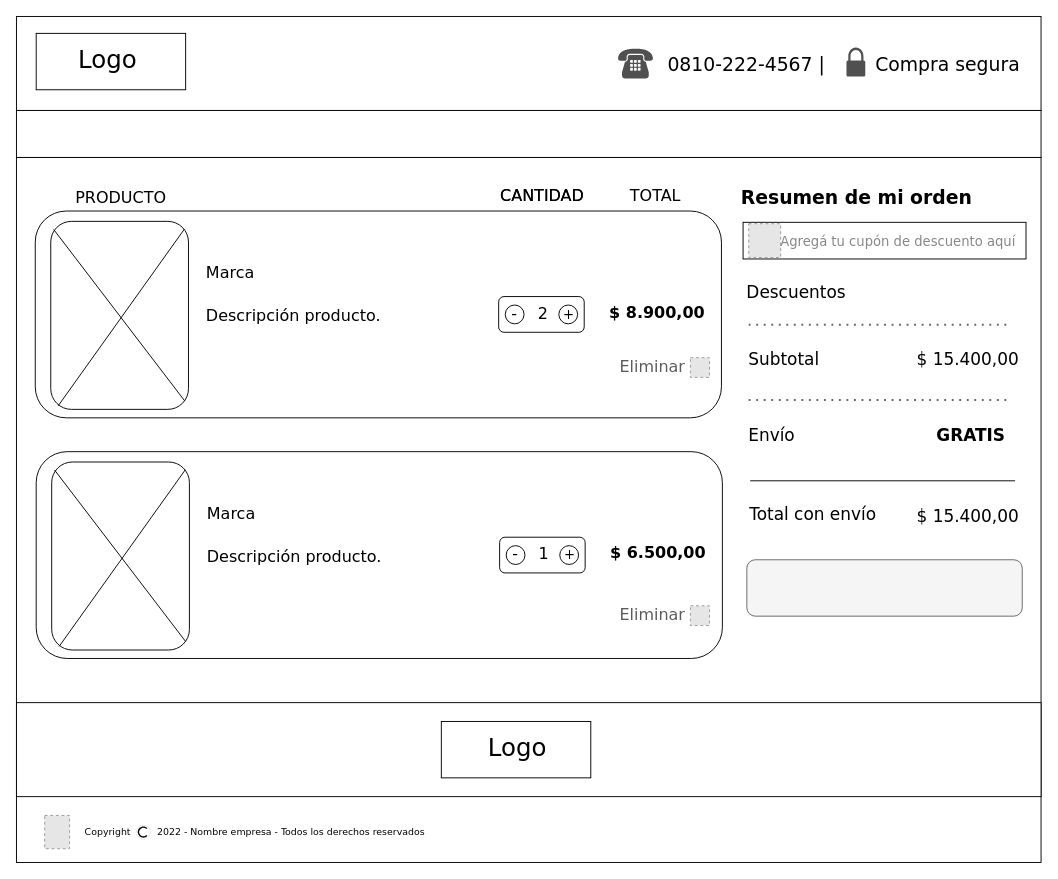
Some shapes in this 1058 by 879 pixel diagram are drawn without their labels. Grey dashed boxes stand in for pictures. Each missing label, with the box of its shape:
Finalizar compra: (746, 559, 1022, 616)
Mi carrito de compras: (16, 110, 1041, 157)
